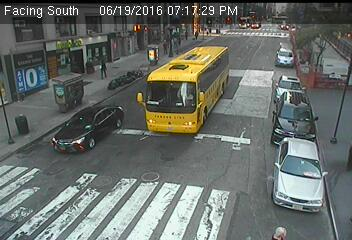pos: (158, 140, 183, 173), (185, 99, 200, 119)
